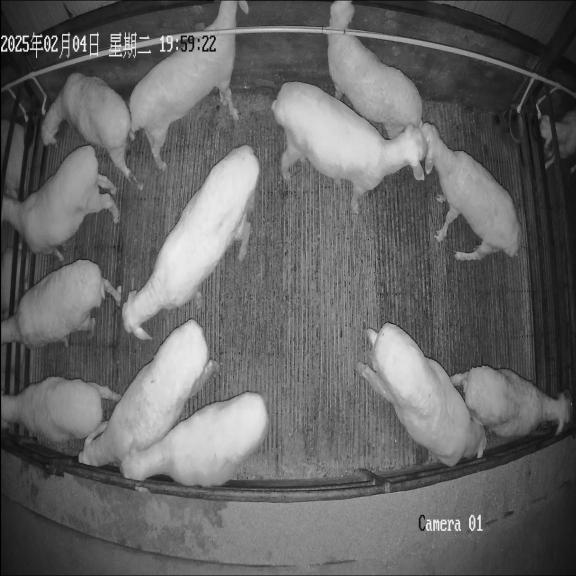drinking: (41, 73, 143, 189)
stand: (122, 146, 259, 339), (129, 0, 249, 170), (272, 82, 427, 213), (79, 320, 218, 466), (357, 323, 486, 466), (420, 122, 521, 261), (120, 392, 269, 486), (2, 146, 119, 260), (327, 0, 422, 139), (2, 260, 121, 348), (451, 366, 572, 437), (2, 377, 120, 442)
